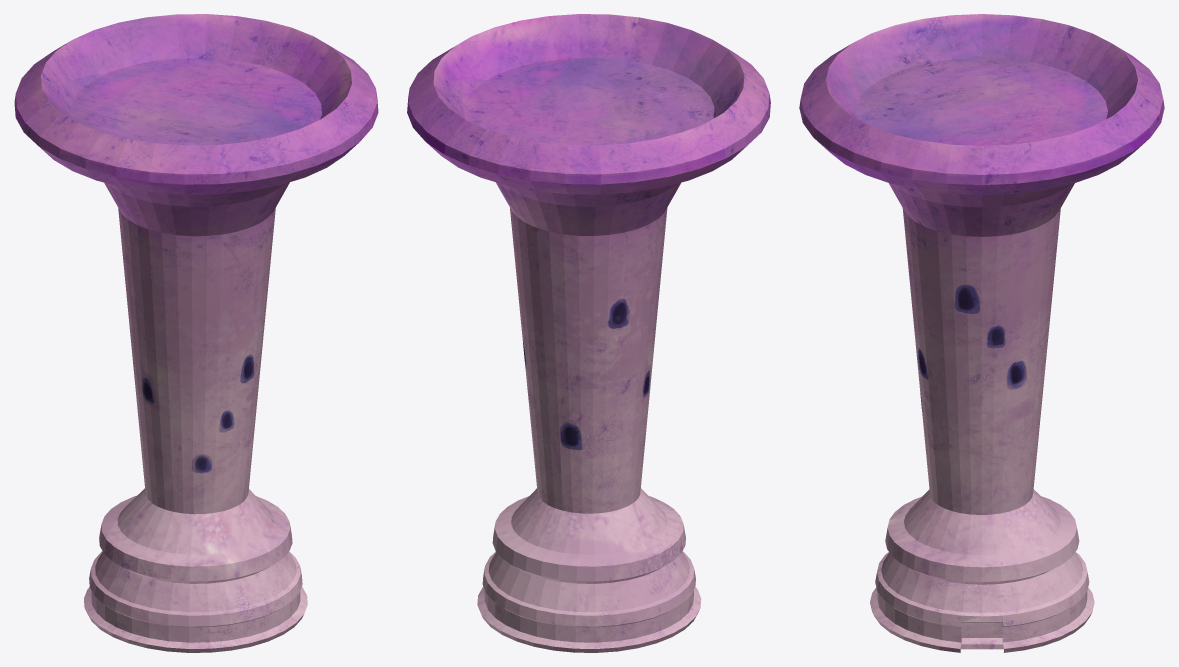
File: dwelling_tall_UNFINISHED.fbx
3 renders of one model, left to right at view 1: azimuth 30°, elevation 25°; view 2: azimuth 150°, elevation 25°; view 3: azimuth 270°, elevation 25°, orthographic.
Parts seen in each view (by area): view 1: Dwelling 1; view 2: Dwelling 1; view 3: Dwelling 1.
Boxes of the visible parts, x1,y1,x2,y2 form: Dwelling 1: (14, 14, 378, 652); Dwelling 1: (407, 14, 770, 652); Dwelling 1: (799, 14, 1164, 652).
Bounding box in the file's own units: 539 × 859 × 539.
